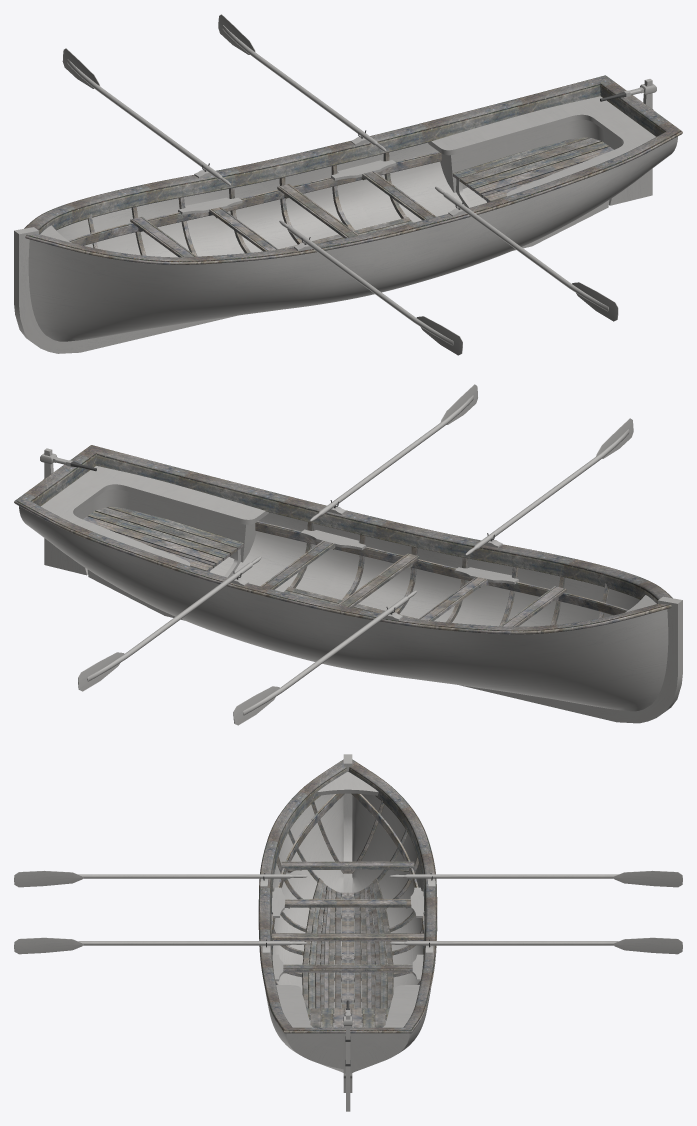
Rendered from RowBoat.obj.
3 views of the same model, one above another, from view 1: azimuth 30°, elevation 25°; view 2: azimuth 150°, elevation 25°; view 3: azimuth 270°, elevation 25° (orthographic). The views are drawn at different scales.
Visible parts, largest first — view 1: BoatGRP RowBoat, BoatGRP Ore3, Ore1 BoatGRP, BoatGRP Ore2, BoatGRP Ore4; view 2: BoatGRP RowBoat, BoatGRP Ore4, BoatGRP Ore2, Ore1 BoatGRP, BoatGRP Ore3; view 3: BoatGRP RowBoat, BoatGRP Ore4, BoatGRP Ore3, Ore1 BoatGRP, BoatGRP Ore2.
Boxes of the visible parts, <box> form: BoatGRP RowBoat: <box>14,75,682,353</box>; BoatGRP Ore3: <box>435,186,618,321</box>; Ore1 BoatGRP: <box>279,220,462,355</box>; BoatGRP Ore2: <box>62,48,230,185</box>; BoatGRP Ore4: <box>218,14,386,151</box>; BoatGRP RowBoat: <box>14,445,682,723</box>; BoatGRP Ore4: <box>78,556,261,691</box>; BoatGRP Ore2: <box>233,590,416,725</box>; Ore1 BoatGRP: <box>465,418,633,555</box>; BoatGRP Ore3: <box>310,384,477,521</box>; BoatGRP RowBoat: <box>258,754,437,1111</box>; BoatGRP Ore4: <box>389,937,682,954</box>; BoatGRP Ore3: <box>14,937,307,954</box>; Ore1 BoatGRP: <box>14,870,307,887</box>; BoatGRP Ore2: <box>389,870,682,887</box>.
Size of the model in its own units: 483 by 99.39 by 524.
Materials: 3 (2 with a texture image).
